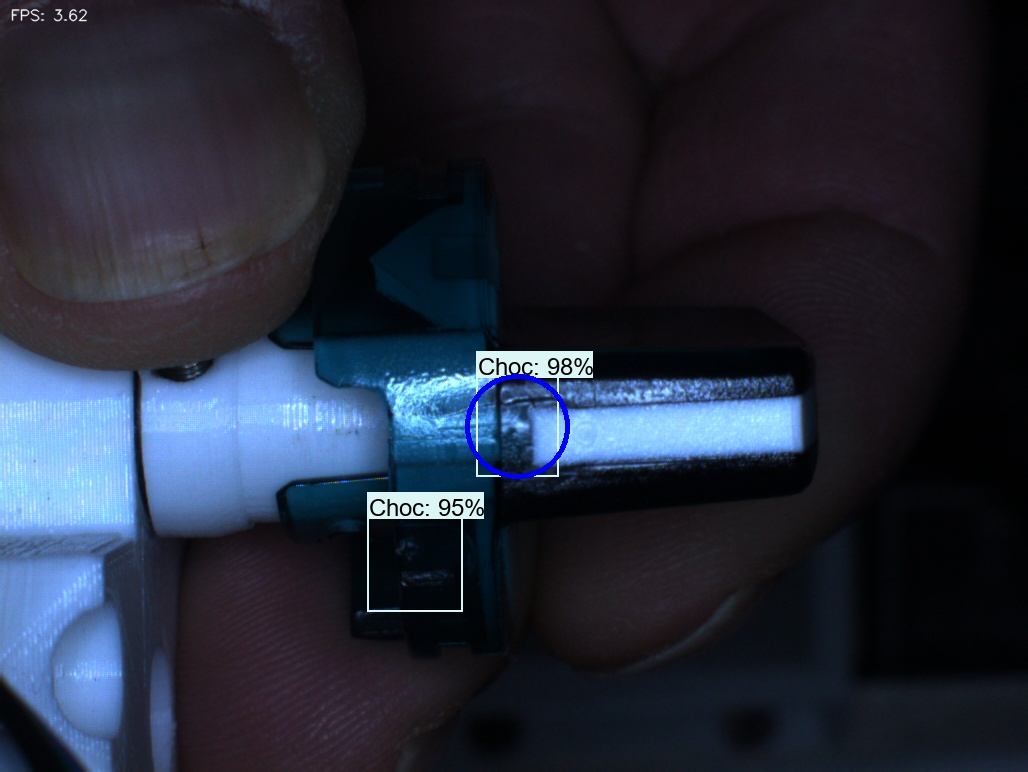DentOk: (342, 223, 413, 308)
